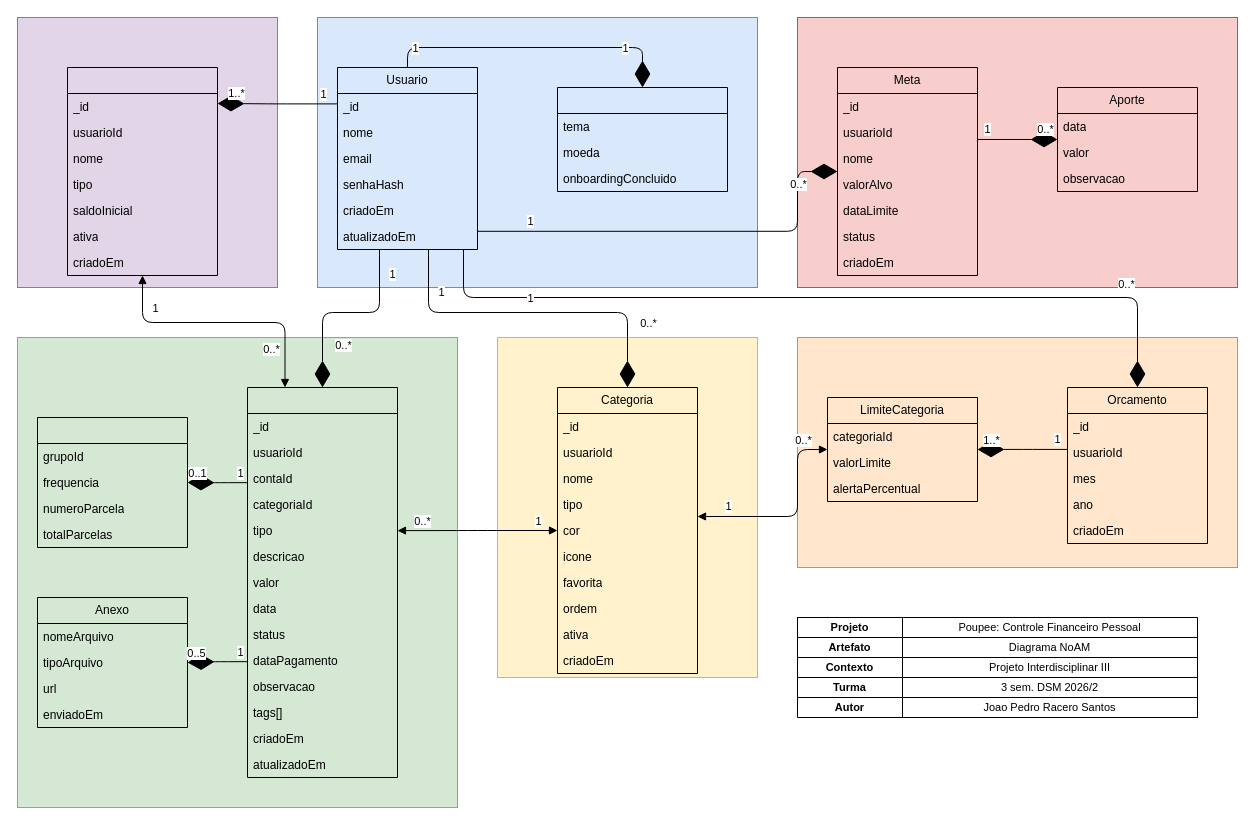
Some shapes in this 1255 by 825 pixel diagram are drawn without their labels. The box of each missing label's shape, as (x1, y1, x2, y2) in pixels:
Conta: (66, 66, 218, 276)
Preferencias: (556, 86, 728, 192)
Recorrencia: (36, 416, 188, 548)
Transacao: (246, 386, 398, 778)
